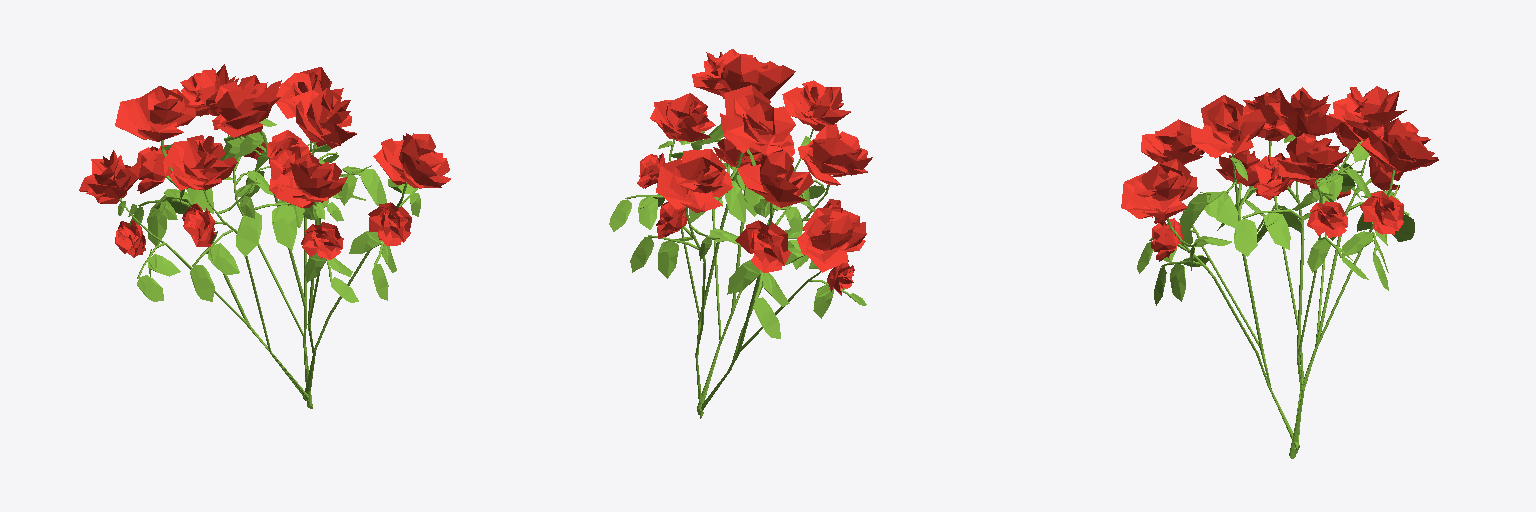
3 views of the same model, side by side, from view 1: azimuth 30°, elevation 25°; view 2: azimuth 150°, elevation 25°; view 3: azimuth 270°, elevation 25° (orthographic).
Visible parts, largest first — view 1: group[number redacted], group[number redacted], group[number redacted]; view 2: group[number redacted], group[number redacted], group[number redacted]; view 3: group[number redacted], group[number redacted], group[number redacted].
Boxes of the visible parts, <box> form: group[number redacted]: <box>236,88,450,400</box>; group[number redacted]: <box>79,86,308,399</box>; group[number redacted]: <box>180,64,365,408</box>; group[number redacted]: <box>609,85,795,418</box>; group[number redacted]: <box>698,126,872,414</box>; group[number redacted]: <box>680,49,850,413</box>; group[number redacted]: <box>1234,87,1438,458</box>; group[number redacted]: <box>1121,95,1299,450</box>; group[number redacted]: <box>1242,86,1414,454</box>.
Size of the model in its own units: 2.46 by 3.04 by 2.54.